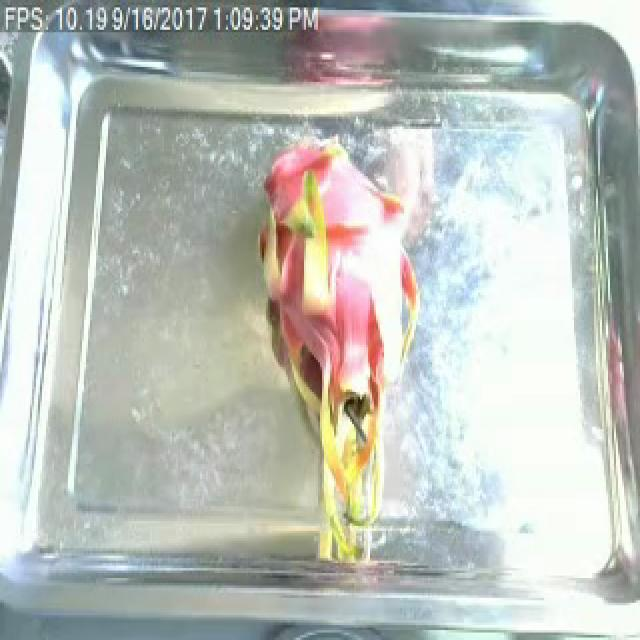fruit: (244, 136, 428, 573)
